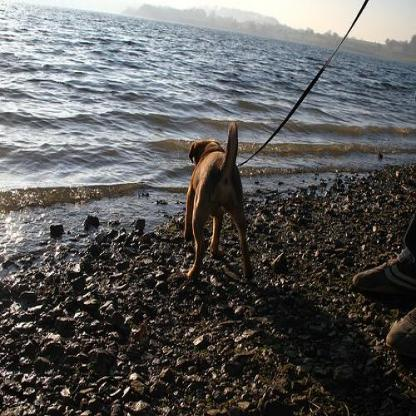Brabancon_griffon: (184, 121, 256, 291)
